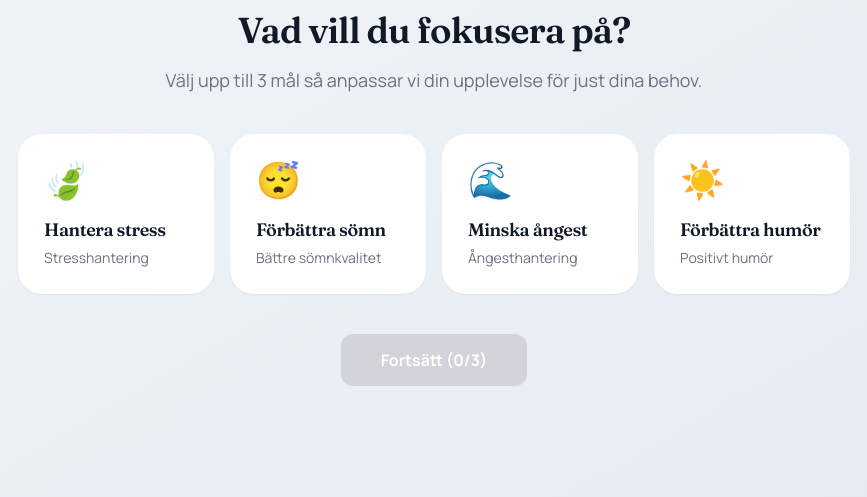
Test: WellnessGoalsOnboarding › shows error when save clicked without userId
Note: Select a goal first
Click the button "🍃 Hantera stress Stresshantering". click: (116, 214)
box: [18,134,214,294]
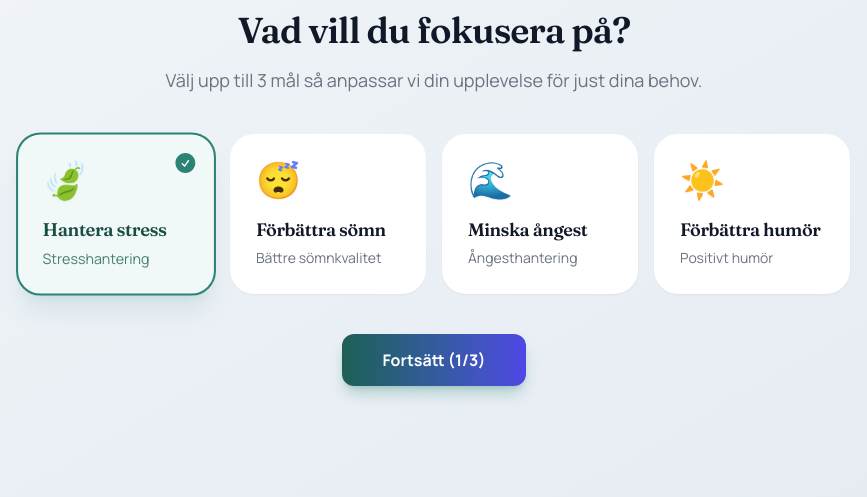
Note: Try to save without userId
Click the button "Fortsätt (1/3)". click: (434, 360)
box: [342,334,526,386]
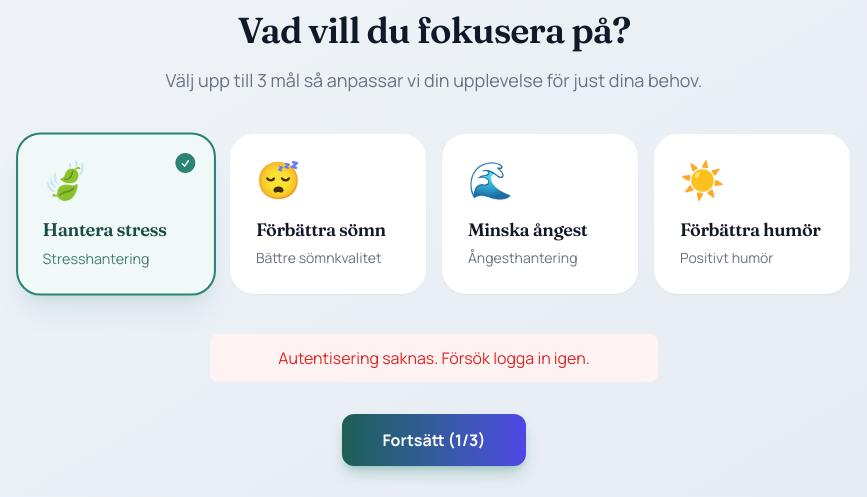
Now the text "Autentisering saknas. Försök logga in igen." is shown, box [210,334,658,382]
